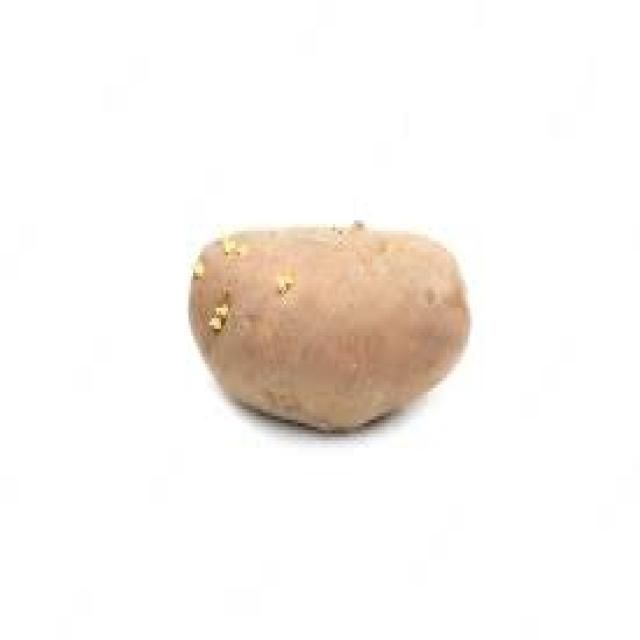potato: (189, 209, 471, 435)
